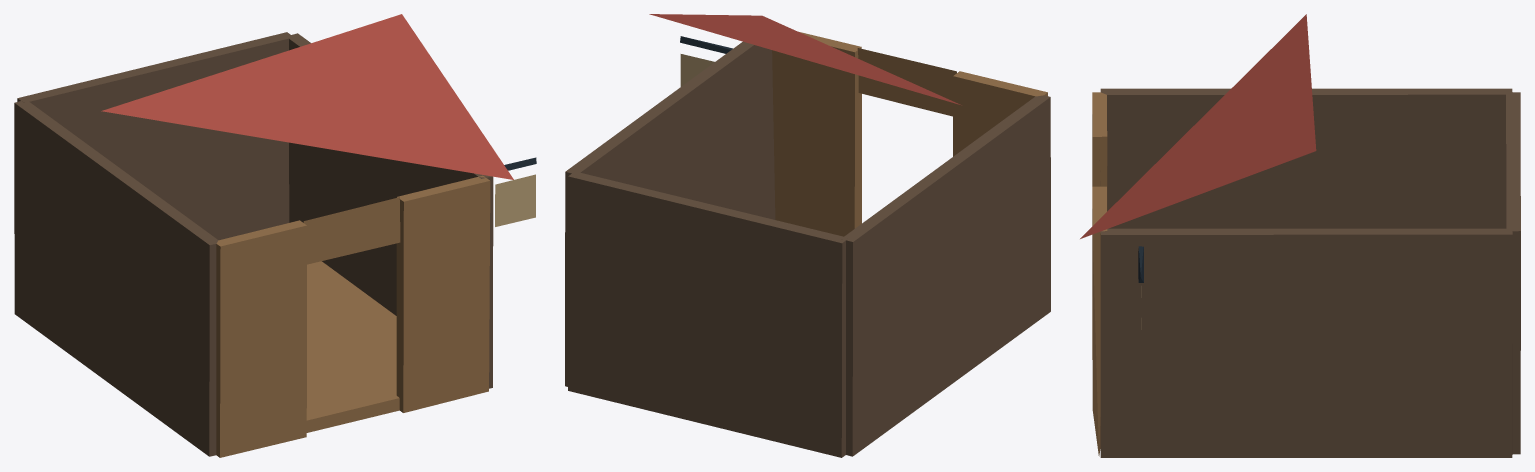
The model's file is harbor-tavern.lod2.glb.
The picture shows the model from 3 angles, left to right: view 1: azimuth 30°, elevation 25°; view 2: azimuth 150°, elevation 25°; view 3: azimuth 270°, elevation 25°; orthographic projection. The views are drawn at different scales.
Visible parts, largest first — view 1: harbor-tavern__body, harbor-tavern__front-wall, harbor-tavern__roof; view 2: harbor-tavern__body, harbor-tavern__front-wall, harbor-tavern__roof; view 3: harbor-tavern__body, harbor-tavern__roof, harbor-tavern__front-wall.
Boxes of the visible parts, x1,y1,x2,y2 form: harbor-tavern__body: (14, 32, 536, 456); harbor-tavern__front-wall: (216, 175, 490, 457); harbor-tavern__roof: (101, 14, 513, 179); harbor-tavern__body: (565, 36, 1050, 457); harbor-tavern__front-wall: (772, 31, 1047, 236); harbor-tavern__roof: (649, 14, 961, 105); harbor-tavern__body: (1100, 88, 1520, 457); harbor-tavern__roof: (1080, 14, 1316, 238); harbor-tavern__front-wall: (1092, 92, 1107, 456).
Bounding box in the file's own units: 5.25 × 4.2 × 5.34.
